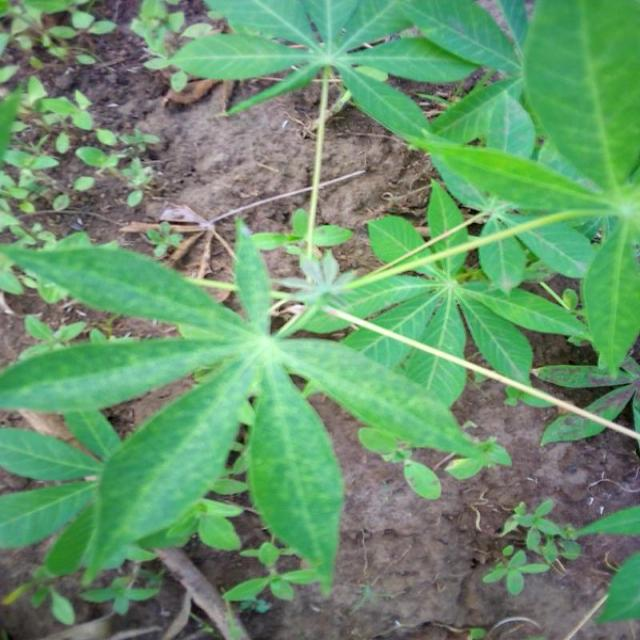cassava leaf: (1, 0, 640, 630), (1, 210, 511, 601)
